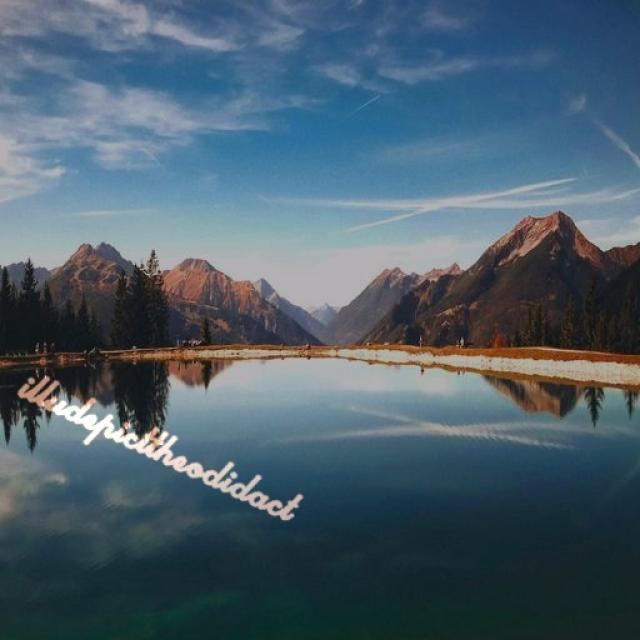watermark: (8, 365, 318, 529)
